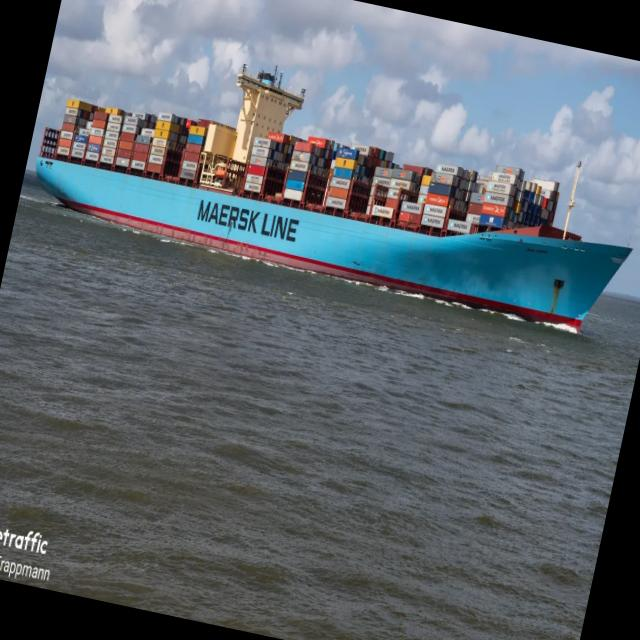Cargo: (36, 64, 631, 331)
